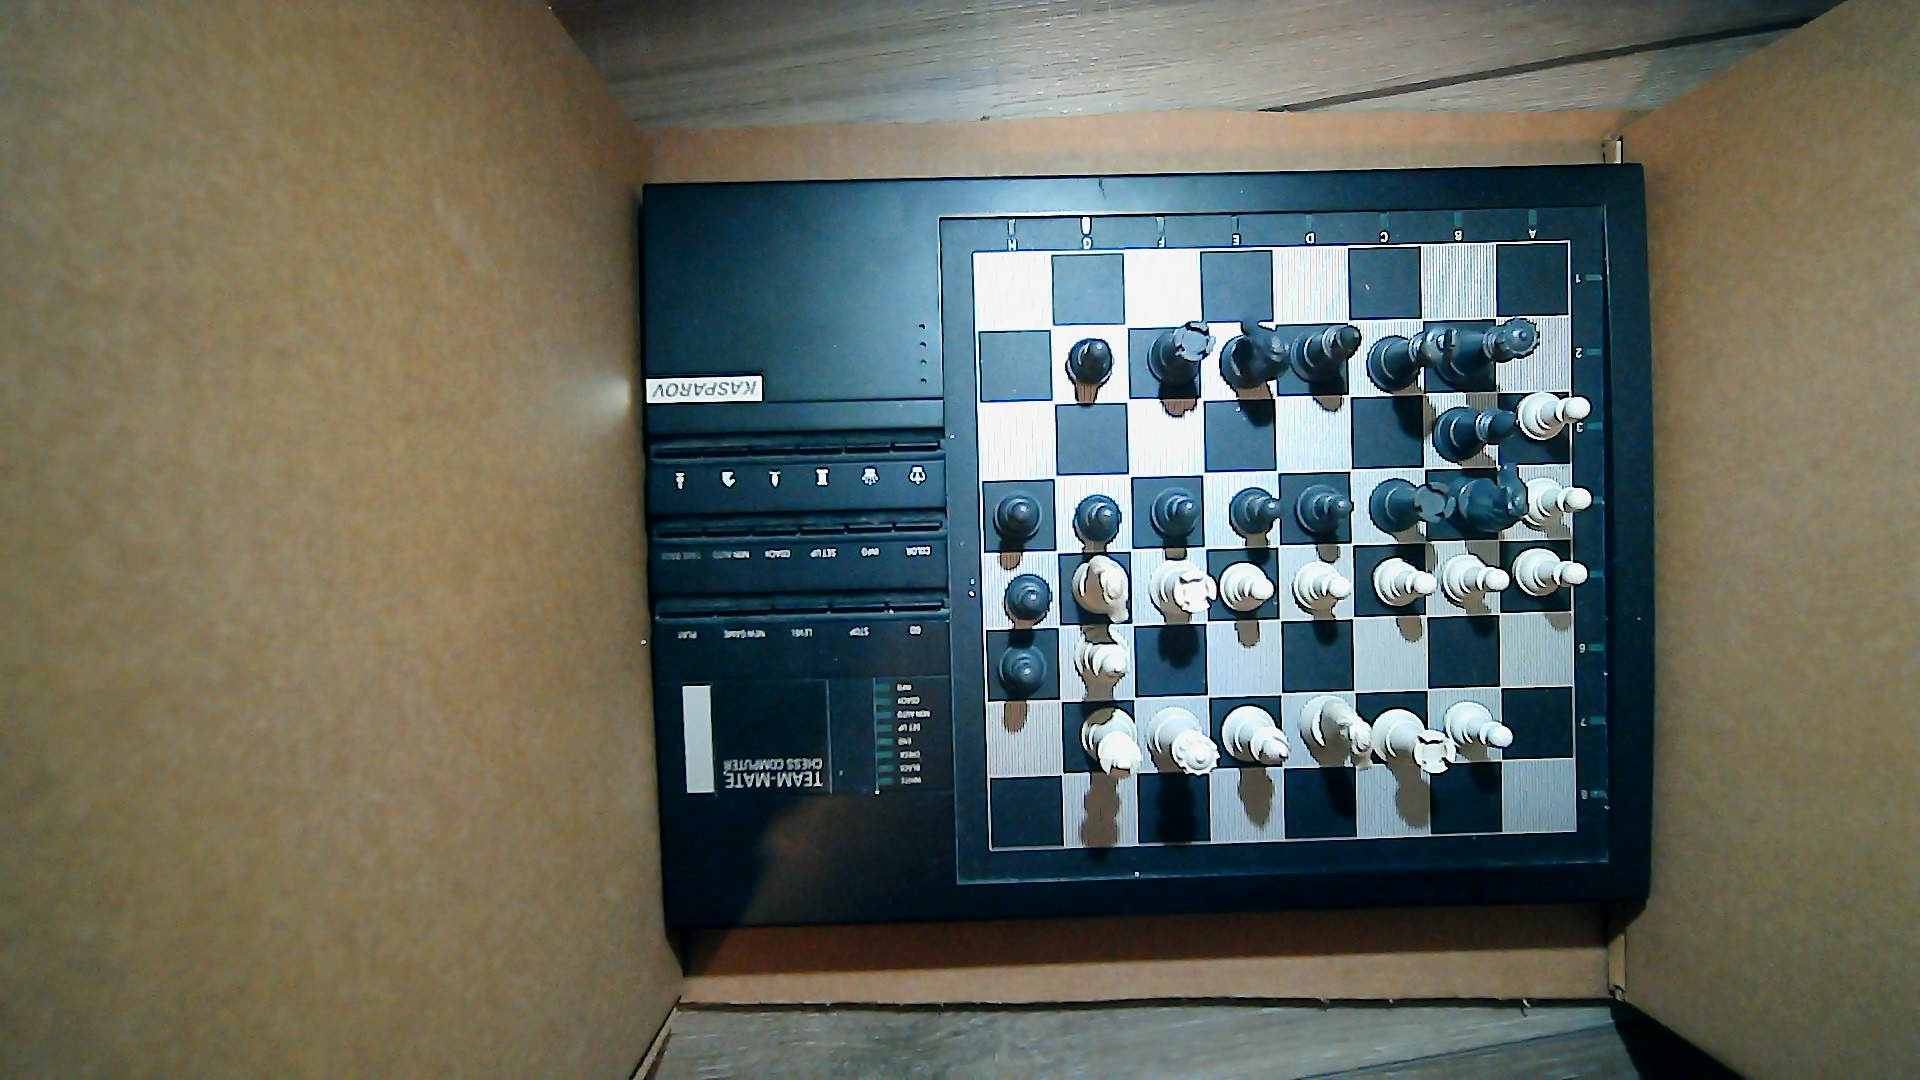bbishop: (1429, 406, 1524, 462), (1292, 322, 1361, 385)
bking: (1366, 326, 1460, 390)
bknight: (1456, 462, 1528, 535), (1220, 320, 1292, 392)
bpawn: (1294, 481, 1356, 535), (1228, 487, 1286, 535), (996, 644, 1047, 695), (992, 492, 1044, 541), (1065, 338, 1116, 388), (1004, 572, 1054, 622), (1072, 493, 1122, 543), (1151, 485, 1201, 535)
bqueen: (1433, 315, 1542, 382)
brook: (1369, 476, 1455, 531), (1147, 320, 1218, 382)
wbishop: (1220, 704, 1294, 769), (1071, 626, 1135, 684)
wking: (1079, 705, 1142, 779)
wknight: (1298, 694, 1373, 771), (1071, 554, 1131, 622)
wpawn: (1509, 546, 1588, 597), (1443, 700, 1514, 756), (1437, 554, 1509, 608), (1518, 388, 1592, 439), (1523, 477, 1593, 527), (1373, 555, 1437, 607), (1291, 559, 1353, 612), (1218, 560, 1275, 612)
wqueen: (1145, 703, 1221, 779)
wrook: (1371, 708, 1458, 775), (1146, 558, 1216, 616)
